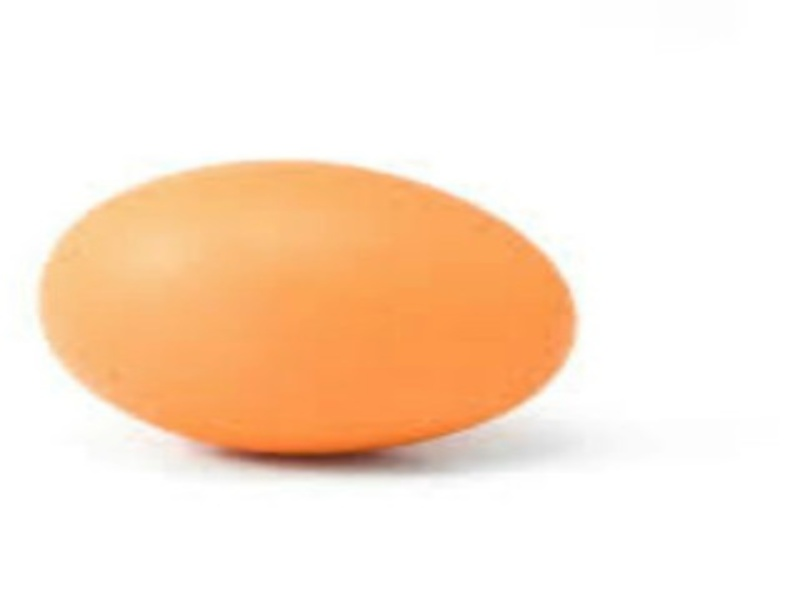Huevo: (39, 161, 580, 457)
